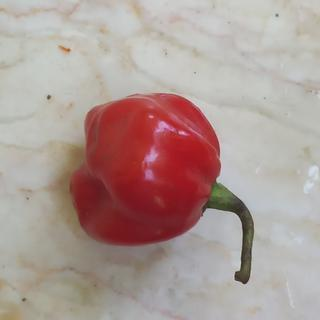Grade-B: (65, 87, 224, 247)
